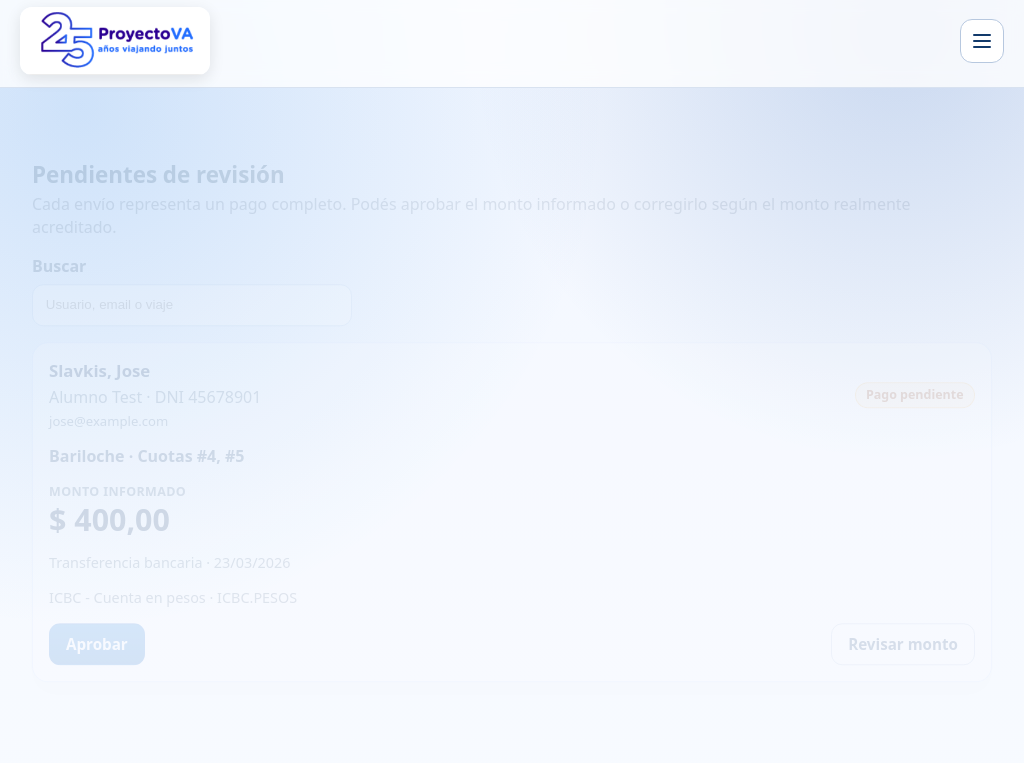
PendingReviewPage › rejects amounts above the persistible money ceiling without a request
Expected: the heading "Slavkis, Jose" is shown, [49,359,150,382]
Click the button "Revisar monto". click: [903, 644]
box: [831,623,975,665]
(page scrolled)
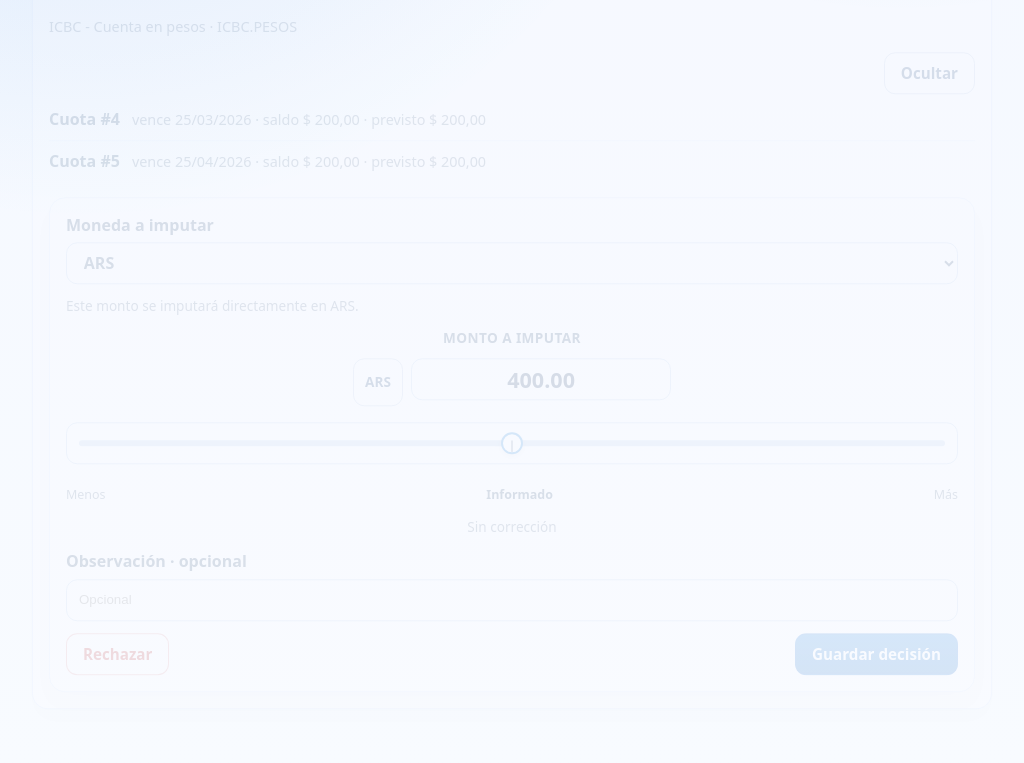
Replace the text in the field named "Monto a imputar" with "100000000". click: [541, 379]
box: [411,358,671,400]
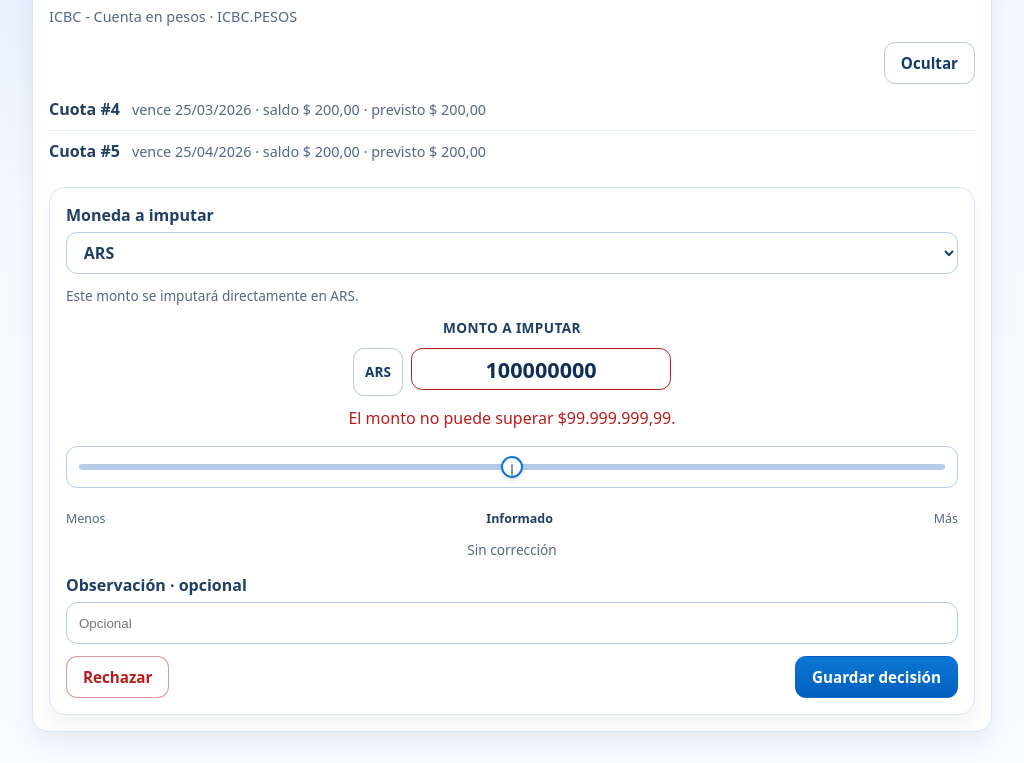
Now the button "Guardar decisión" is disabled, box [795,656,958,698]
Now the message shows "99.999.999,99", box [348,406,676,428]
